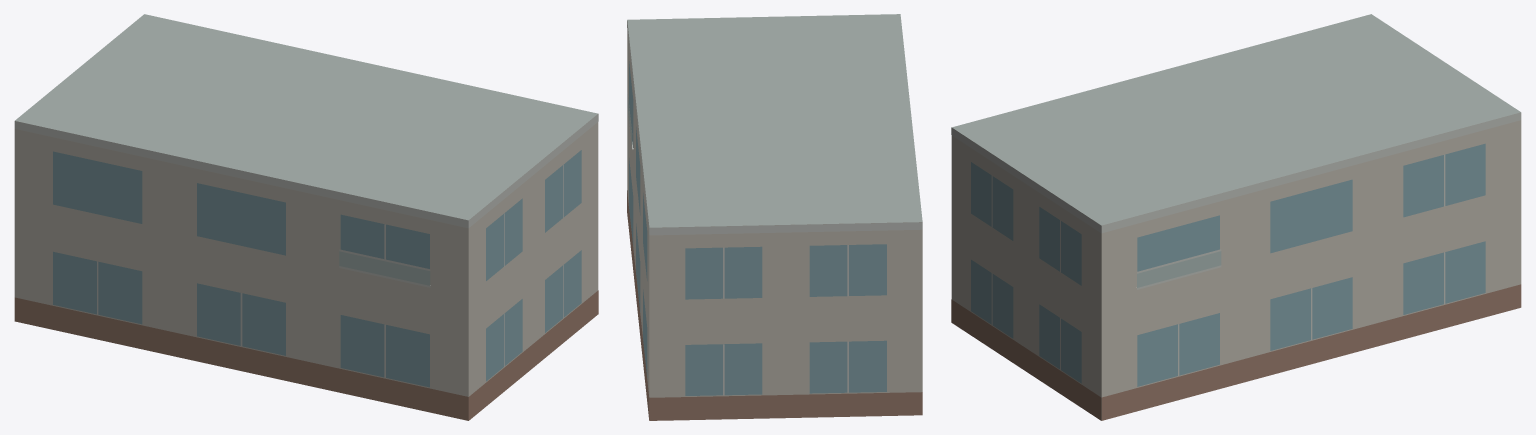
The model's file is survey-upis-32836484.glb.
3 views of the same model, side by side, from view 1: azimuth 30°, elevation 25°; view 2: azimuth 150°, elevation 25°; view 3: azimuth 270°, elevation 25° (orthographic). The views are drawn at different scales.
Parts seen in each view (by area): view 1: survey-upis-32836484.tmp; view 2: survey-upis-32836484.tmp; view 3: survey-upis-32836484.tmp.
Boxes of the visible parts, <box> form: survey-upis-32836484.tmp: <box>14,14,598,420</box>; survey-upis-32836484.tmp: <box>627,14,922,420</box>; survey-upis-32836484.tmp: <box>951,14,1521,420</box>.
Bounding box in the file's own units: 14.18 × 6.1 × 16.14.
